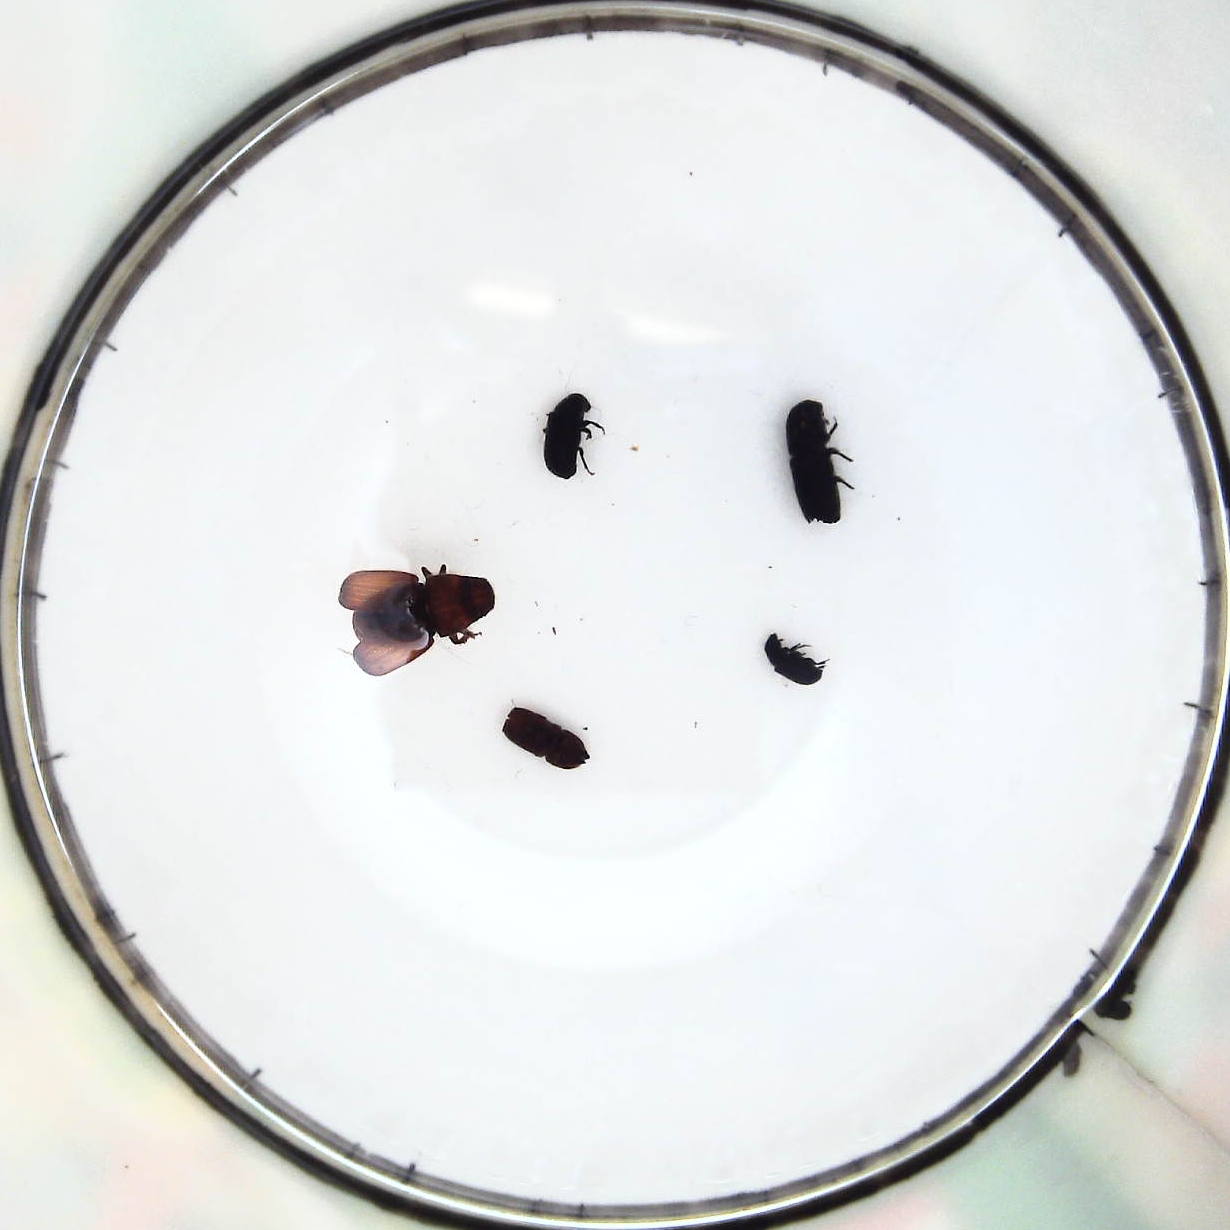Boerner: (777, 393, 861, 525)
Leconte: (331, 562, 499, 674)
Linnaeus: (503, 703, 592, 776)
armandi: (536, 396, 594, 476)
coleoptera: (758, 632, 821, 688)
